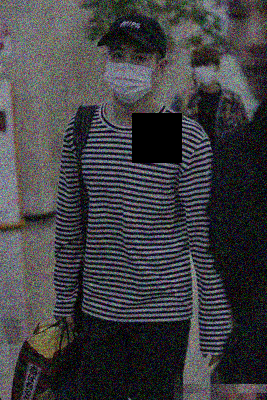with_mask: (106, 45, 158, 104), (194, 62, 215, 88)
without_mask: (226, 2, 267, 97)
